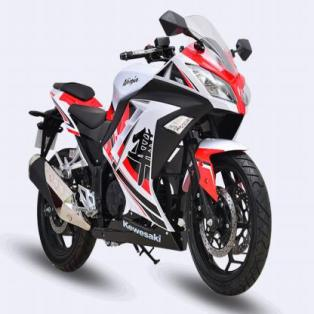Motocicleta: (22, 7, 278, 299)
